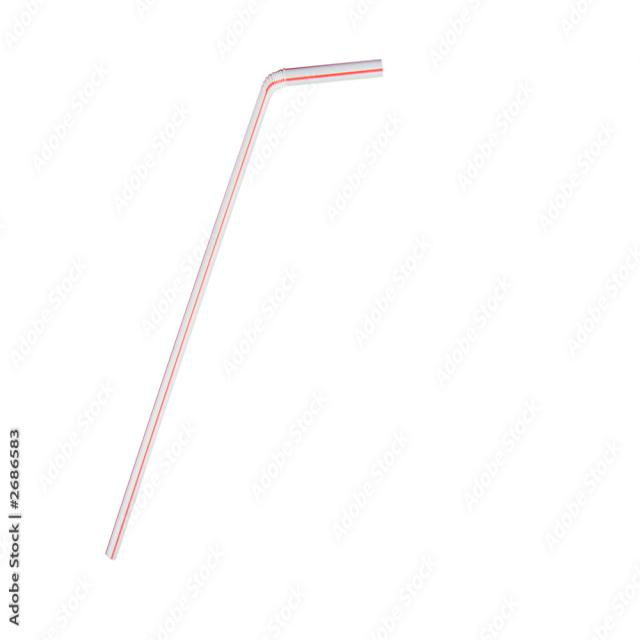plastic: (76, 34, 409, 578)
